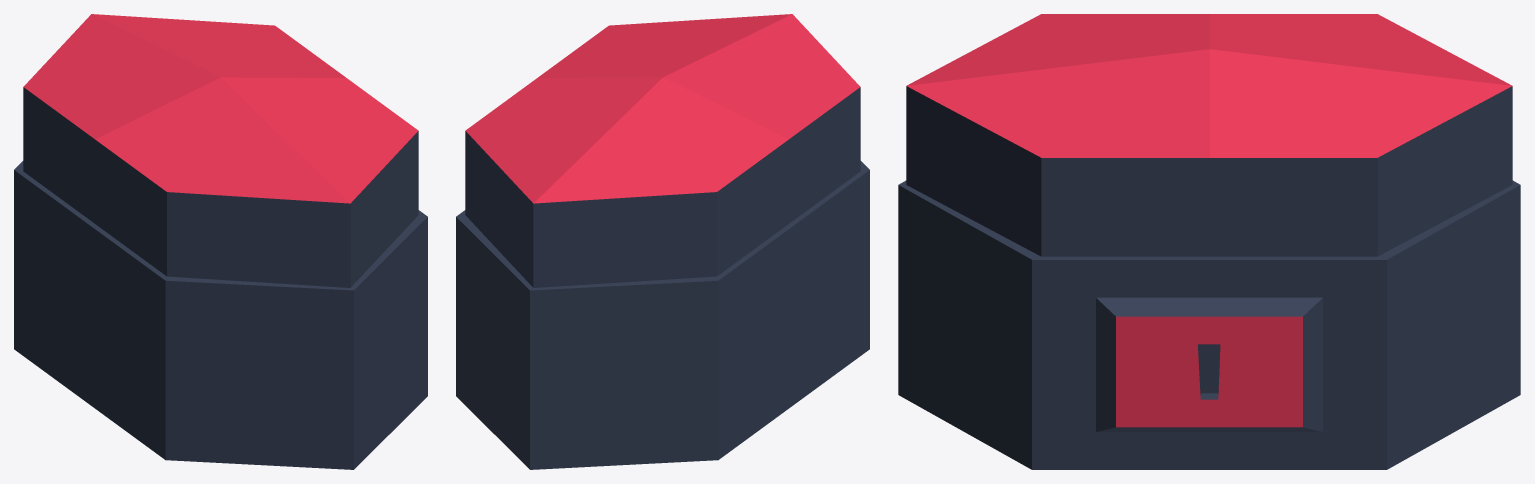
File: assetLockBox.fbx
The picture shows the model from 3 angles, left to right: view 1: azimuth 30°, elevation 25°; view 2: azimuth 150°, elevation 25°; view 3: azimuth 270°, elevation 25°; orthographic projection. The views are drawn at different scales.
Visible parts, largest first — view 1: Lid, Lockbox; view 2: Lid, Lockbox; view 3: Lockbox, Lid.
Part boxes in pixels (left/top/right/bottom): Lid: left=23, top=14, right=418, bottom=287; Lockbox: left=14, top=161, right=427, bottom=469; Lid: left=465, top=14, right=860, bottom=287; Lockbox: left=456, top=161, right=869, bottom=469; Lockbox: left=898, top=180, right=1520, bottom=469; Lid: left=906, top=14, right=1512, bottom=256.
Bounding box in the file's own units: 209 × 215 × 351.
